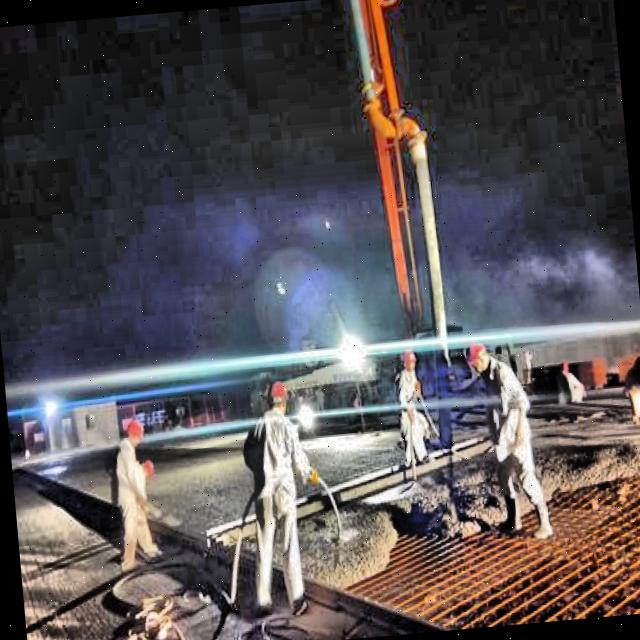helmet: (461, 336, 494, 378), (264, 378, 290, 419), (124, 417, 145, 451), (397, 347, 419, 379)
